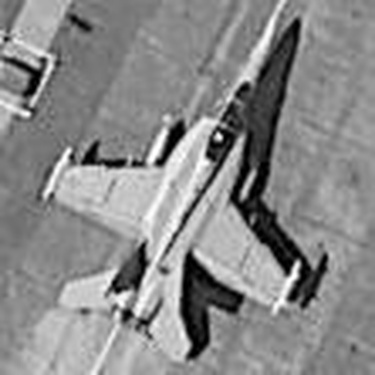airplane: (40, 2, 326, 362)
